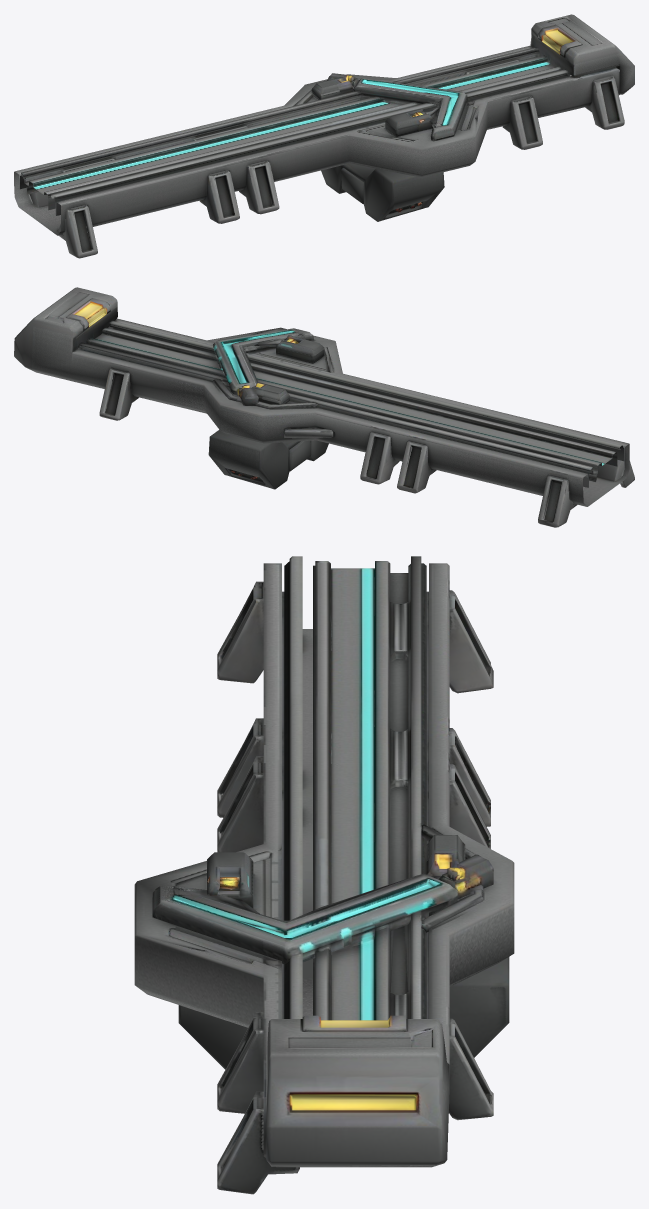
The model's file is tripo_convert_038fe719-abdd-40b2-9503-7f1be5d3027e.fbx.
The picture shows the model from 3 angles, top to bottom: view 1: azimuth 30°, elevation 25°; view 2: azimuth 150°, elevation 25°; view 3: azimuth 270°, elevation 25°; orthographic projection. The views are drawn at different scales.
Visible parts, largest first — view 1: tripo_node_038fe719; view 2: tripo_node_038fe719; view 3: tripo_node_038fe719.
Part boxes in pixels (left/top/right/bottom): tripo_node_038fe719: left=14, top=14, right=634, bottom=258; tripo_node_038fe719: left=14, top=287, right=634, bottom=527; tripo_node_038fe719: left=134, top=556, right=514, bottom=1194.
Bounding box in the file's own units: 0.998 × 0.1895 × 0.2871.
Materials: 1 (1 with a texture image).
